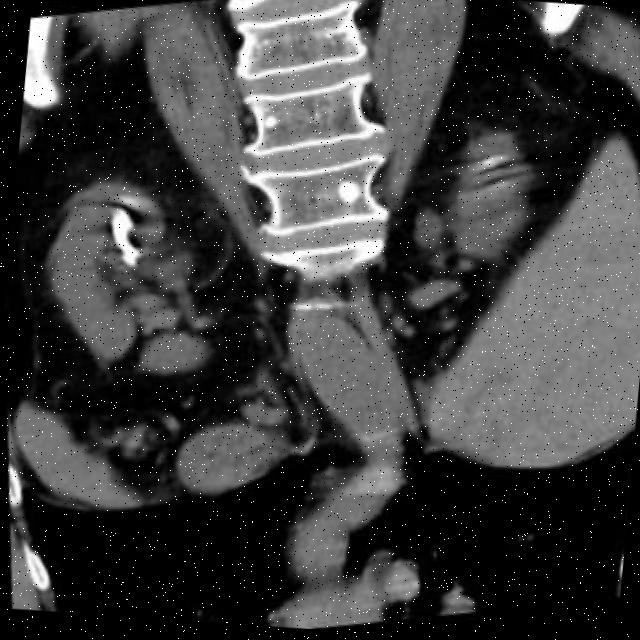Tas_Var: (95, 200, 148, 282), (115, 254, 140, 273)
